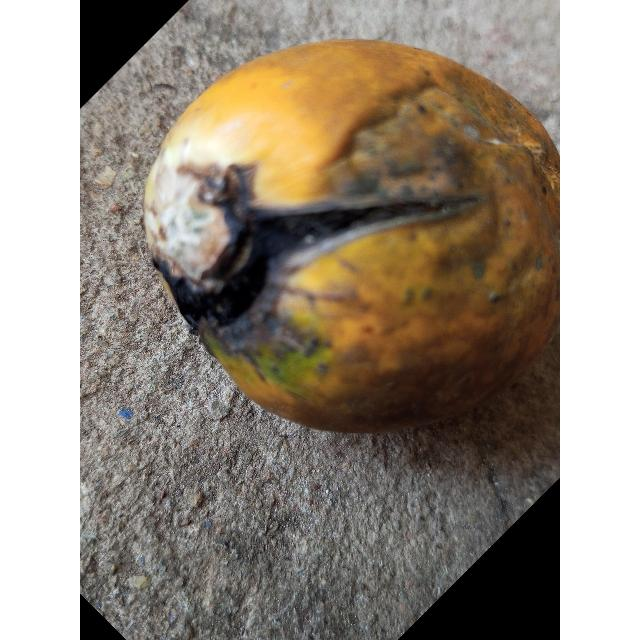damaged: (144, 40, 560, 432)
